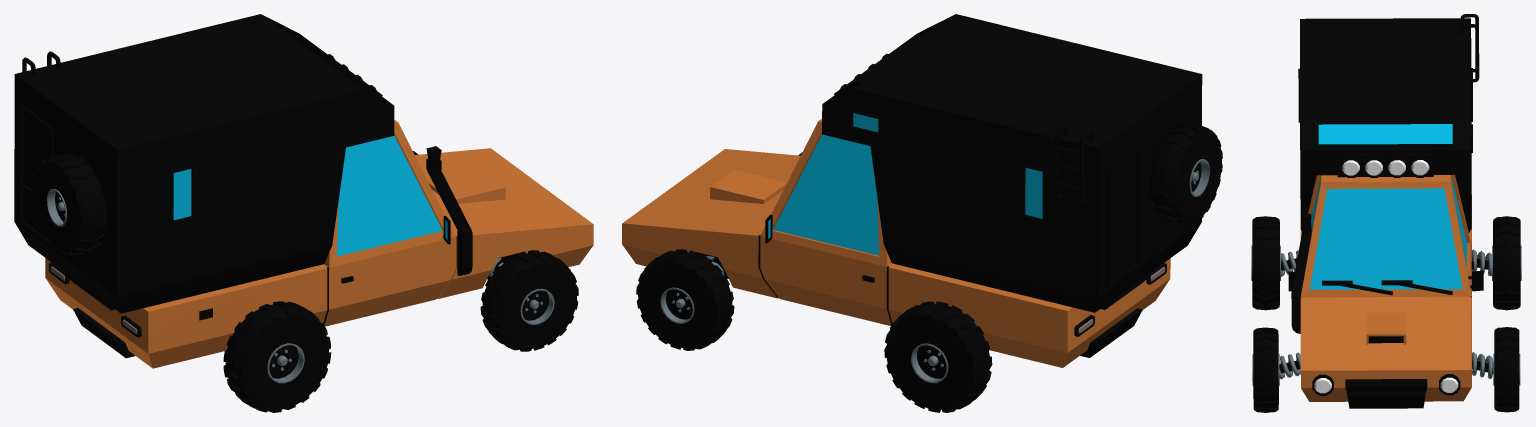
Rendered from tukmon.glb.
3 renders of one model, left to right at view 1: azimuth 30°, elevation 25°; view 2: azimuth 150°, elevation 25°; view 3: azimuth 270°, elevation 25°, orthographic. The views are drawn at different scales.
Visible parts, largest first — view 1: body.023, wheels.021, wheels.001; view 2: body.023, wheels.007, wheels.001; view 3: body.023, wheels.001, wheels.021, wheels.007, body.035.
Boxes of the visible parts, bbox=[...] form: body.023: bbox=[14, 14, 593, 368]; wheels.021: bbox=[223, 301, 331, 412]; wheels.001: bbox=[413, 151, 578, 351]; body.023: bbox=[622, 14, 1222, 367]; wheels.007: bbox=[884, 301, 992, 412]; wheels.001: bbox=[636, 152, 802, 350]; body.023: bbox=[1279, 18, 1493, 408]; wheels.001: bbox=[1252, 327, 1520, 412]; wheels.021: bbox=[1251, 216, 1280, 310]; wheels.007: bbox=[1492, 216, 1521, 310]; body.035: bbox=[1460, 24, 1479, 82].
Size of the model in its own units: 5.75 by 3.12 by 3.16.
